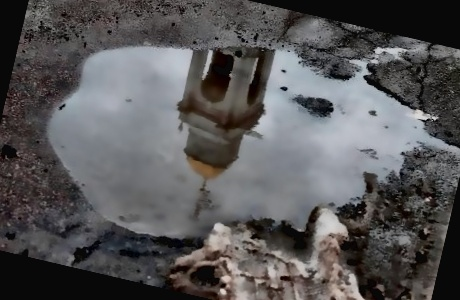pothole: (28, 0, 460, 298)
